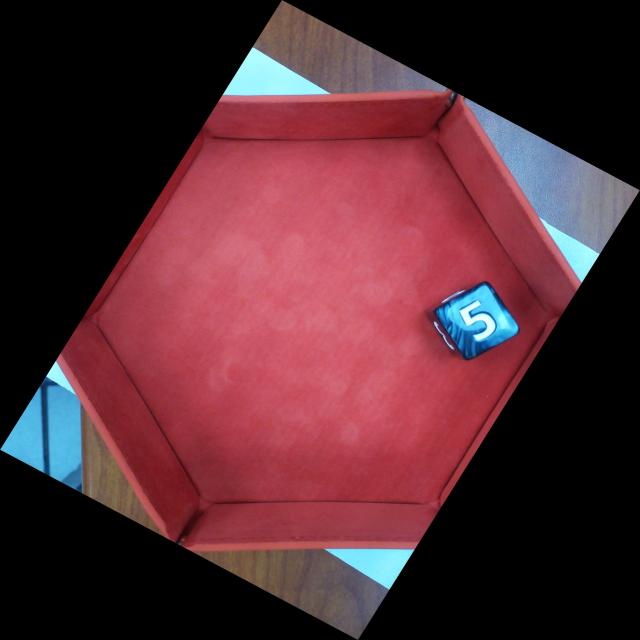dice: (444, 286, 513, 355)
